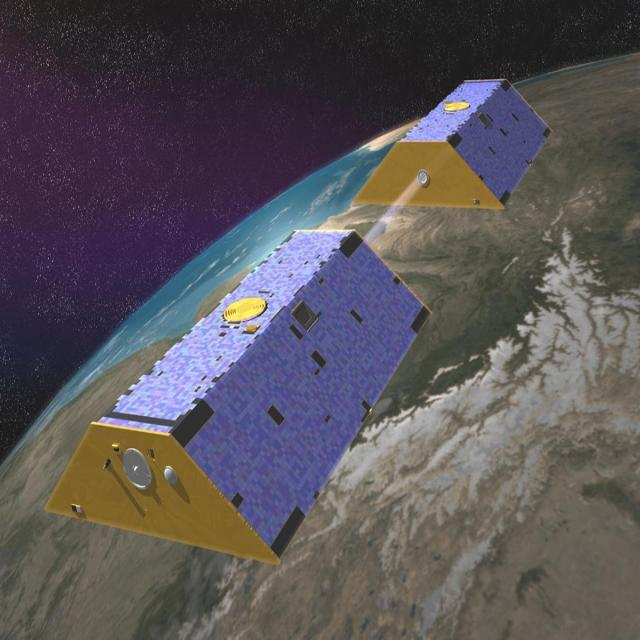sat: (48, 45, 552, 585)
